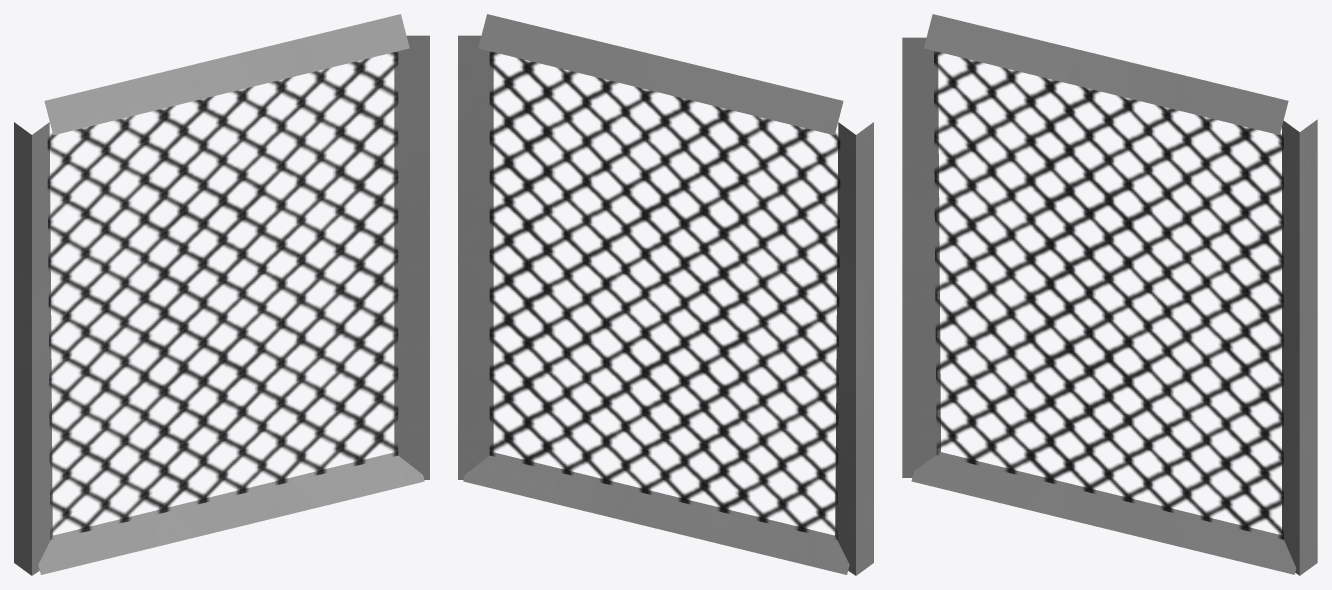
Rendered from fence-chainlink-gate-1m-noPost-cbj_LOD02.gltf.
3 views of the same model, side by side, from view 1: azimuth 30°, elevation 25°; view 2: azimuth 150°, elevation 25°; view 3: azimuth 330°, elevation 25° (orthographic).
Parts seen in each view (by area): view 1: chainlink01; view 2: chainlink01; view 3: chainlink01.
Boxes of the visible parts, x1,y1,x2,y2 form: chainlink01: (14, 14, 429, 575); chainlink01: (458, 14, 873, 575); chainlink01: (902, 14, 1317, 575).
Size of what is drawn, in the model's own units: 0.8951 by 0.9987 by 0.0693.
